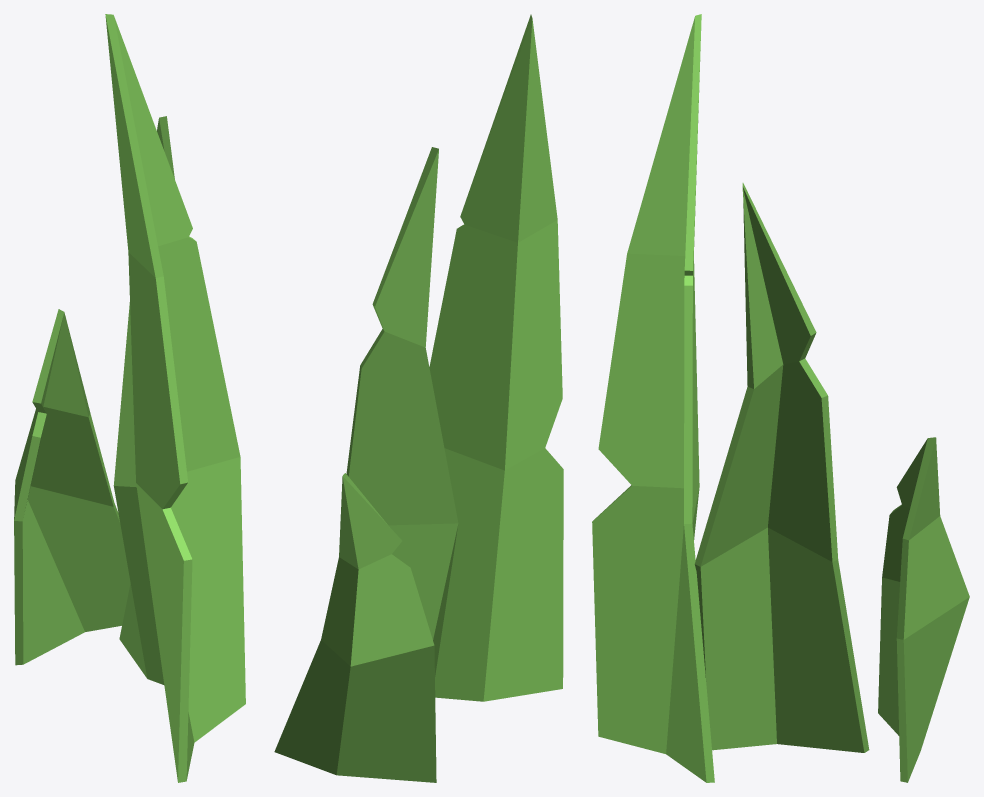
File: Grass buket3.fbx
The picture shows the model from 3 angles, left to right: view 1: azimuth 30°, elevation 25°; view 2: azimuth 150°, elevation 25°; view 3: azimuth 270°, elevation 25°; orthographic projection. The views are drawn at different scales.
Visible parts, largest first — view 1: Plane.012, Plane.014, Plane.013; view 2: Plane.012, Plane.014, Plane.013; view 3: Plane.012, Plane.013, Plane.014.
Boxes of the visible parts, x1,y1,x2,y2 form: Plane.012: (105, 14, 245, 782); Plane.014: (14, 309, 130, 665); Plane.013: (113, 116, 174, 684); Plane.012: (429, 14, 563, 701); Plane.014: (274, 473, 436, 782); Plane.013: (340, 147, 458, 676); Plane.012: (592, 14, 714, 782); Plane.013: (694, 183, 869, 752); Plane.014: (878, 437, 969, 782).
Size of the model in its own units: 62.88 by 277 by 133.
